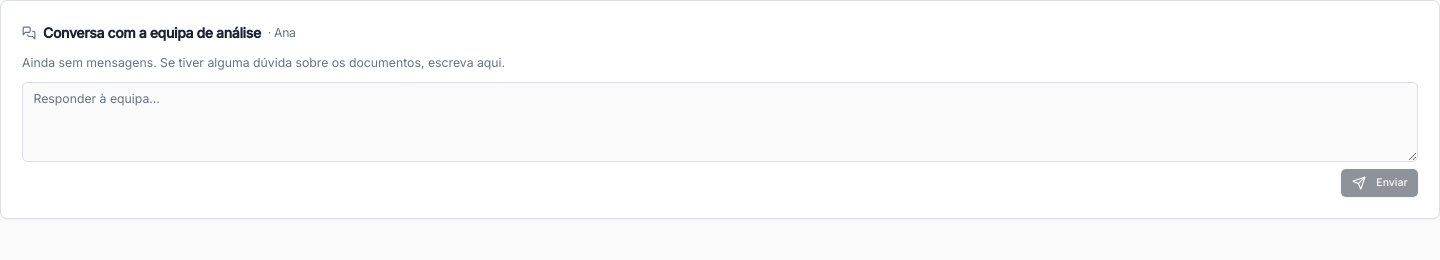
ConversaComAEquipa — o parceiro fala com o Index › um erro do servidor fica junto à caixa e o texto não se perde
In the text box with test id "conversa-texto": (720, 122) [22, 82, 1418, 162], type "Olá"
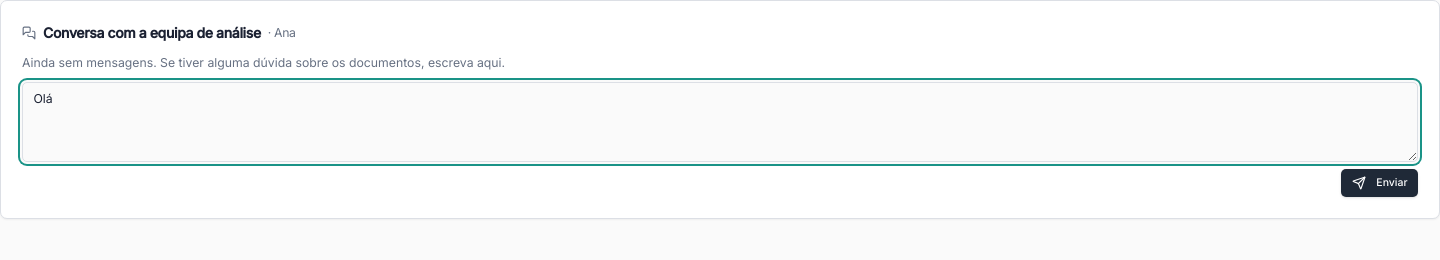
Click the button with test id "conversa-enviar": (1380, 182) [1341, 168, 1418, 196]
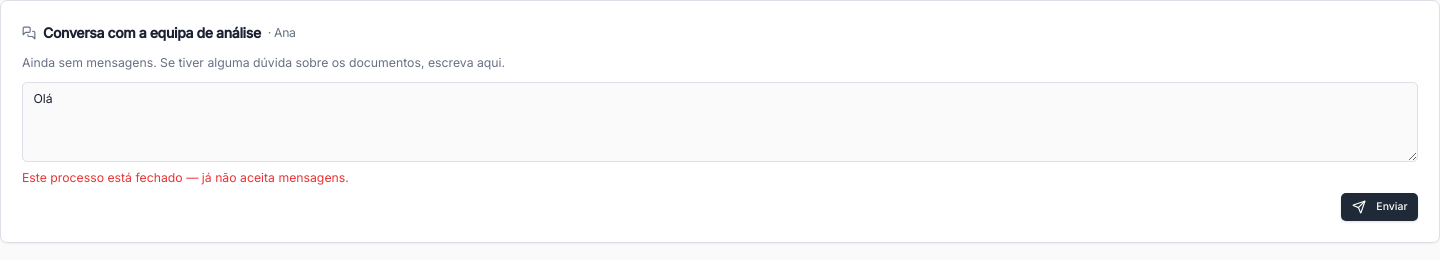
expect the message shows "fechado": met, box [22, 170, 349, 184]
